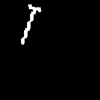half_double_crochet: (21, 5, 40, 43)
